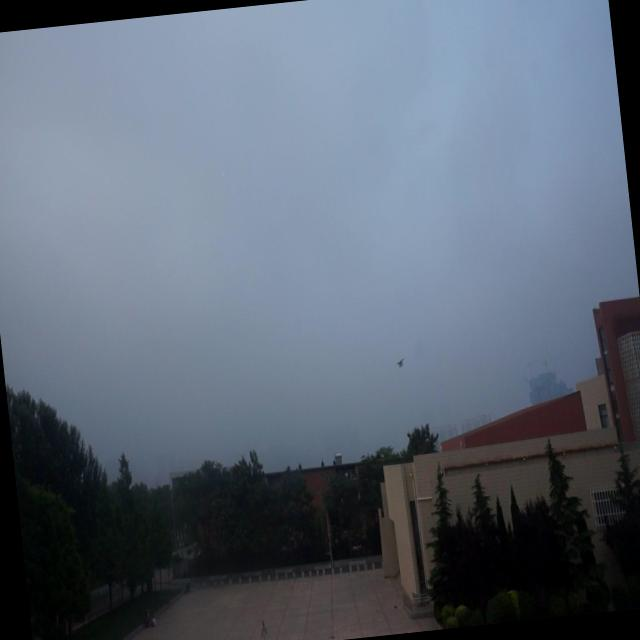drone: (395, 354, 407, 372)
